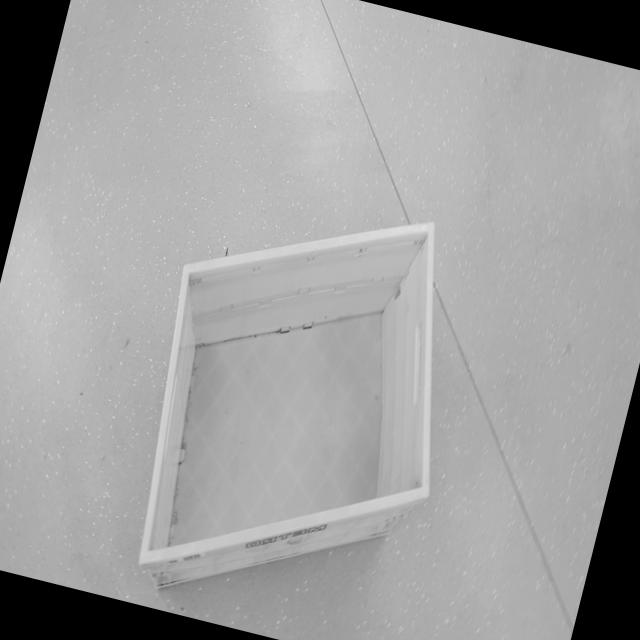box: (99, 147, 502, 640)
